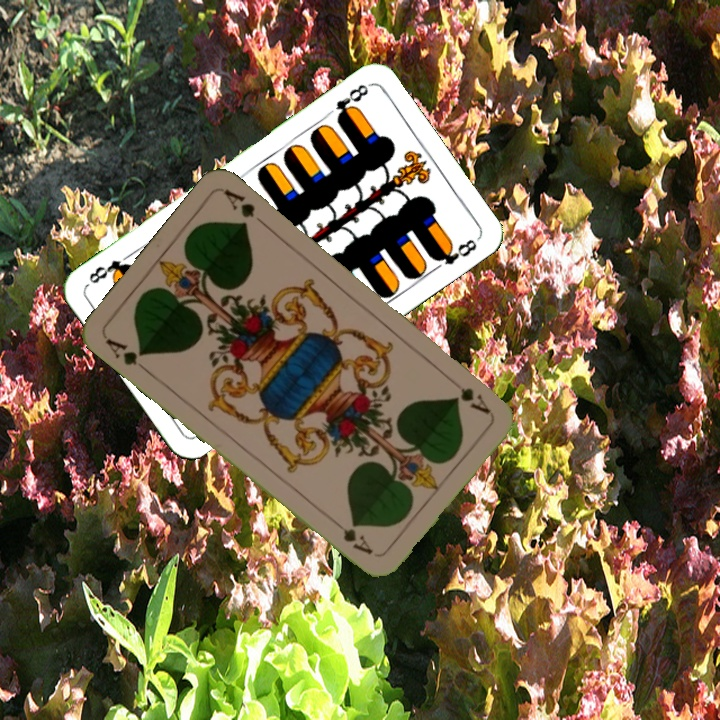E8: (332, 80, 372, 125)
GA: (444, 373, 493, 417), (101, 334, 152, 376)
